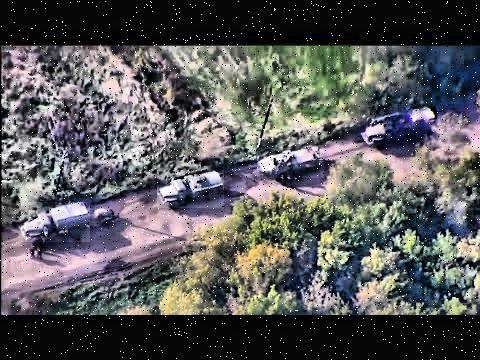military-vehicle: (360, 107, 436, 148), (21, 203, 90, 243), (158, 170, 225, 208), (258, 145, 325, 178)
